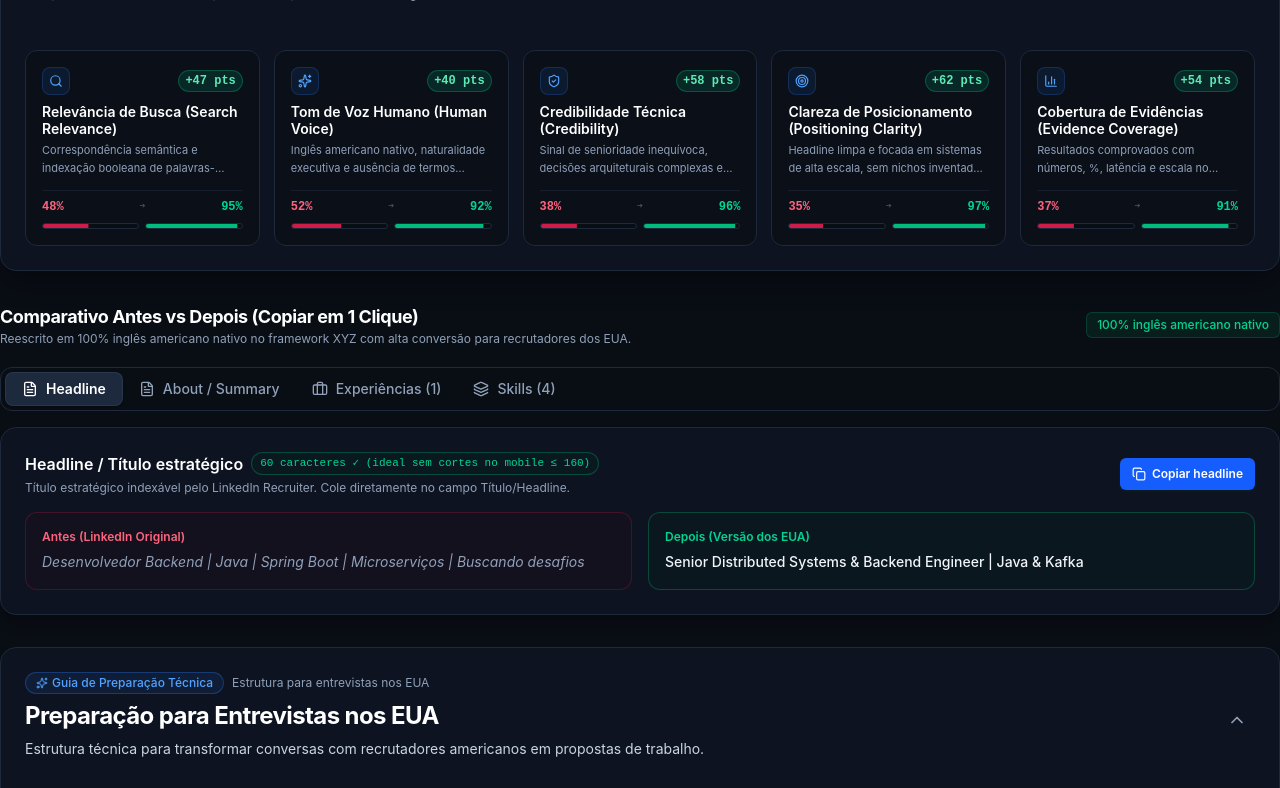
it: ActionHubView Component › renders informative message when original experience description is absent
(page scrolled)
Click the tab "Experiências (1)".
click(377, 389)  # box [296,373,458,405]
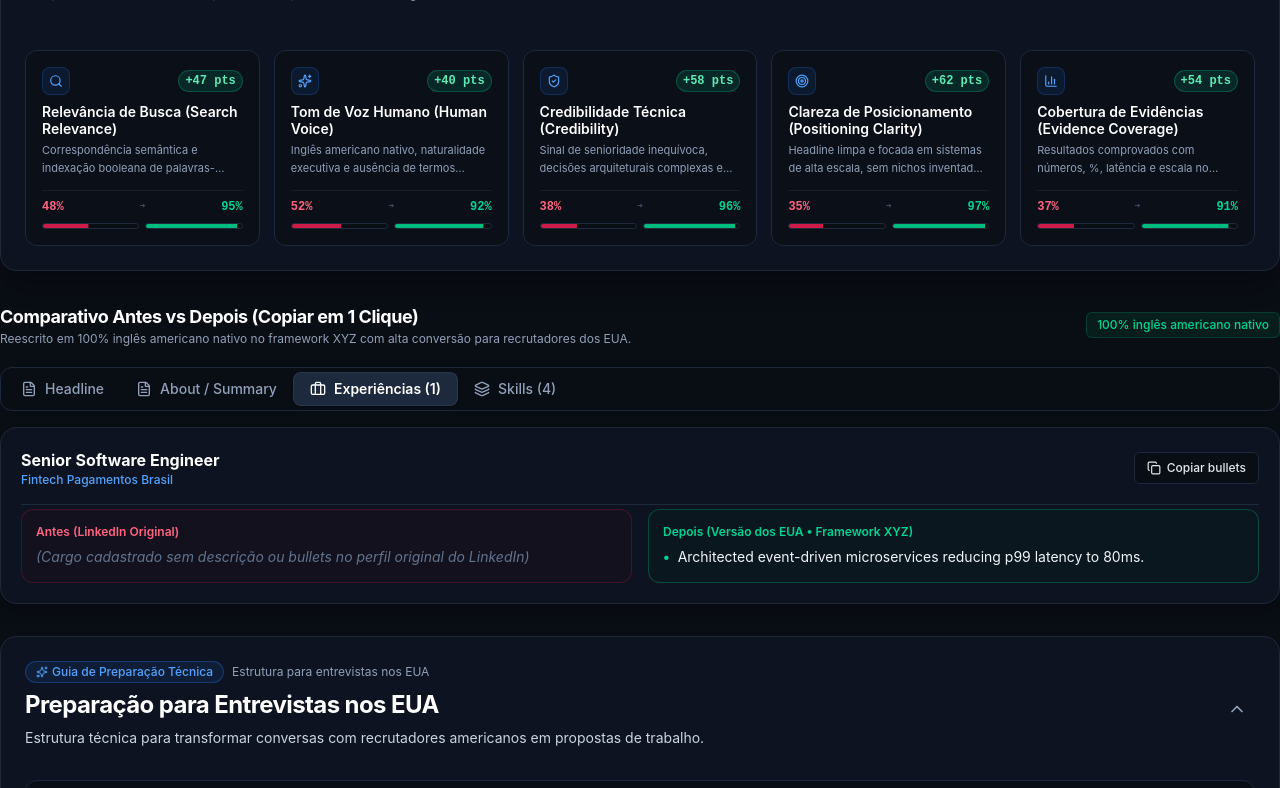
Expected: the text "Cargo cadastrado sem descrição ou bullets no perfil original do LinkedIn" is shown, [36,548,530,565]
